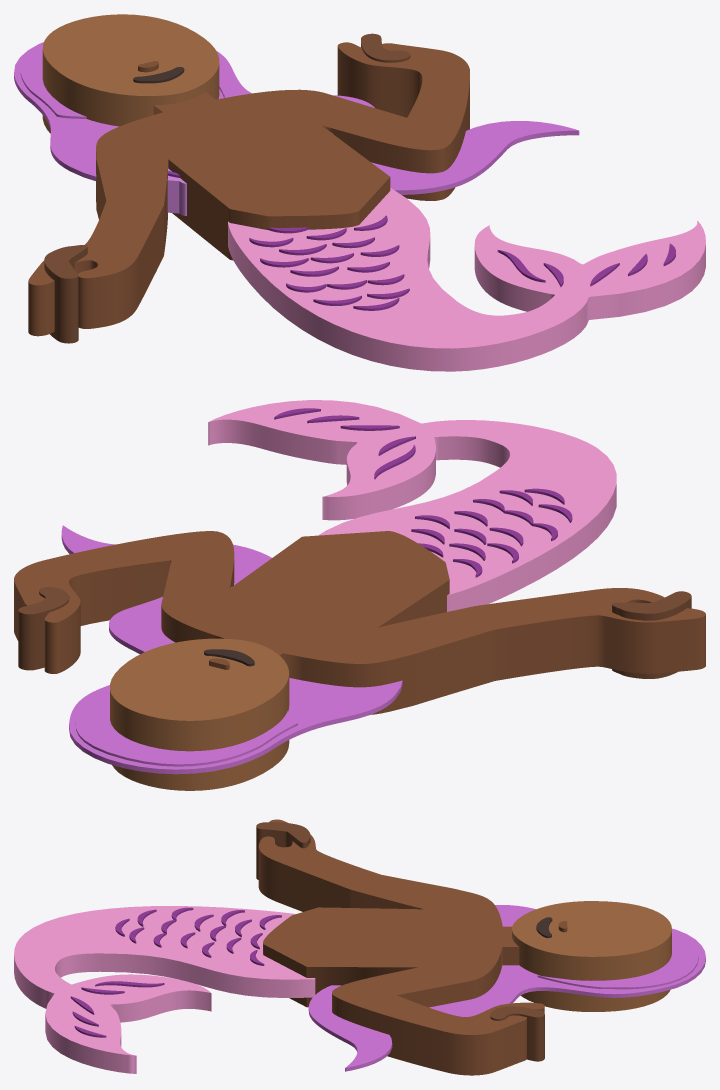
File: emoji_u1f9dc_1f3fe_200d_2640.glb
3 renders of one model, top to bottom at view 1: azimuth 30°, elevation 25°; view 2: azimuth 150°, elevation 25°; view 3: azimuth 270°, elevation 25°, orthographic. The views are drawn at different scales.
Visible parts, largest first — view 1: emoji_u1f9dc_1f3fe_200d_2640; view 2: emoji_u1f9dc_1f3fe_200d_2640; view 3: emoji_u1f9dc_1f3fe_200d_2640.
Part boxes in pixels (left/top/right/bottom): emoji_u1f9dc_1f3fe_200d_2640: left=14, top=14, right=705, bottom=371; emoji_u1f9dc_1f3fe_200d_2640: left=14, top=400, right=705, bottom=790; emoji_u1f9dc_1f3fe_200d_2640: left=14, top=819, right=705, bottom=1075.
Size of the model in its own units: 0.0268 by 0.0034 by 0.0341.
